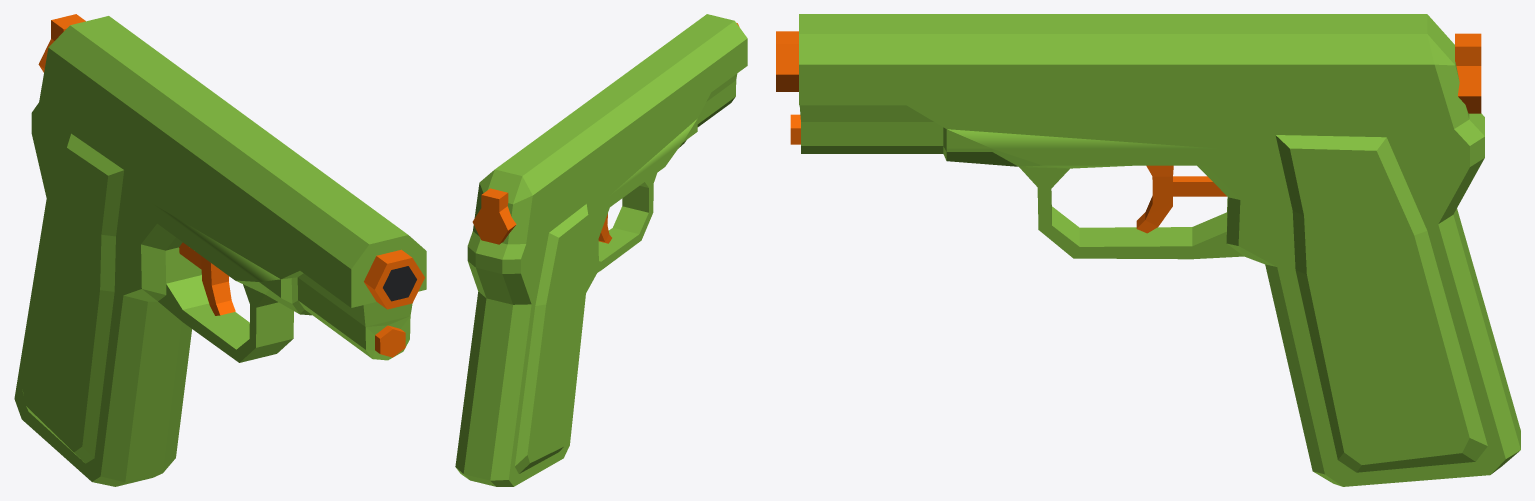
Rendered from SM_Wep_WaterPistol_01.glb.
3 renders of one model, left to right at view 1: azimuth 30°, elevation 25°; view 2: azimuth 150°, elevation 25°; view 3: azimuth 270°, elevation 25°, orthographic. The views are drawn at different scales.
Visible parts, largest first — view 1: SM_Wep_WaterPistol_01, WaterPistol_01_Trigger; view 2: SM_Wep_WaterPistol_01; view 3: SM_Wep_WaterPistol_01, WaterPistol_01_Trigger.
Part boxes in pixels (box(x1,y1,x2,y2)): SM_Wep_WaterPistol_01: box(14, 14, 426, 486); WaterPistol_01_Trigger: box(179, 242, 235, 315); SM_Wep_WaterPistol_01: box(455, 14, 747, 486); SM_Wep_WaterPistol_01: box(776, 14, 1520, 486); WaterPistol_01_Trigger: box(1136, 165, 1226, 233).
Bounding box in the file's own units: 0.0398 × 0.1742 × 0.2614.
Materials: 1 (1 with a texture image).
